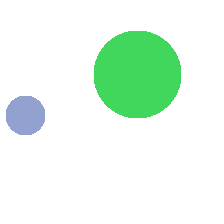circle: (94, 31, 180, 117), (6, 96, 44, 134)
